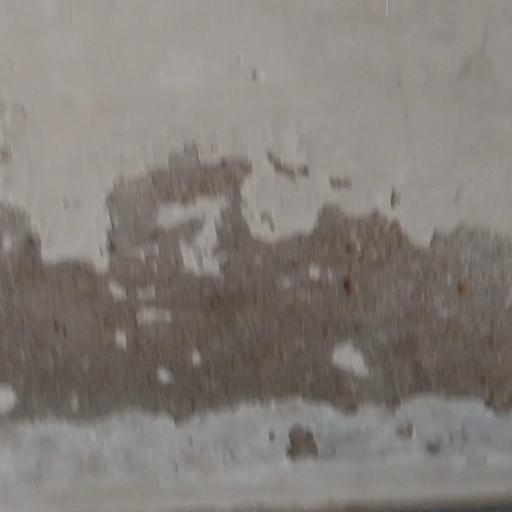peeling: (0, 140, 512, 473)
